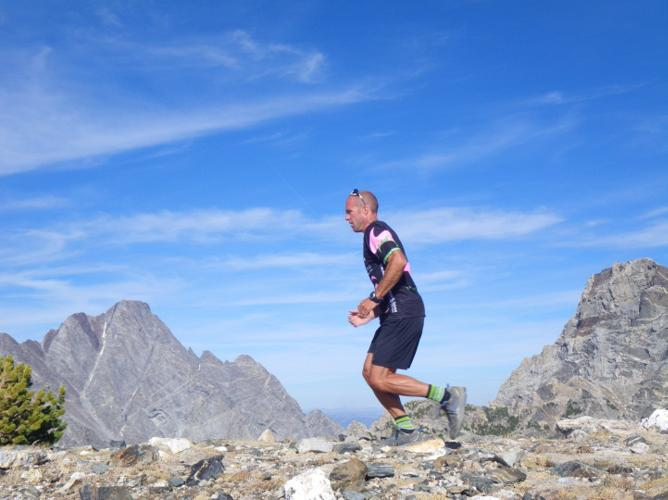person: (347, 187, 469, 442)
